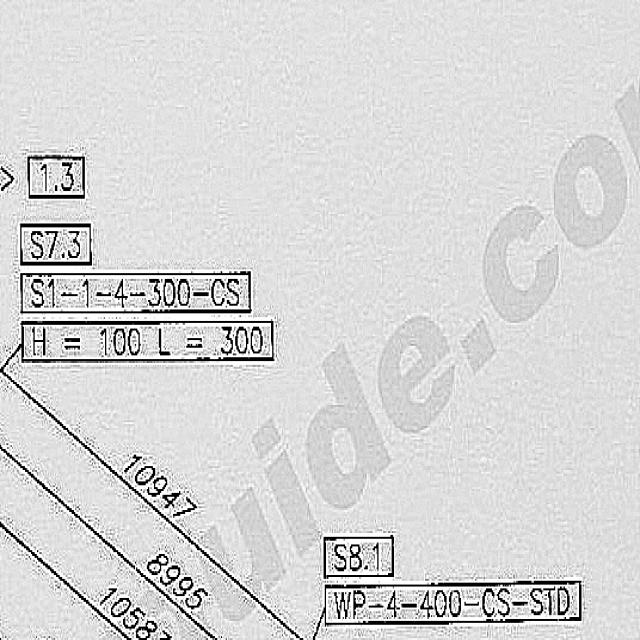Item number: (19, 219, 94, 270), (322, 532, 396, 581), (27, 149, 88, 206)
Measrement: (2, 433, 240, 638)
